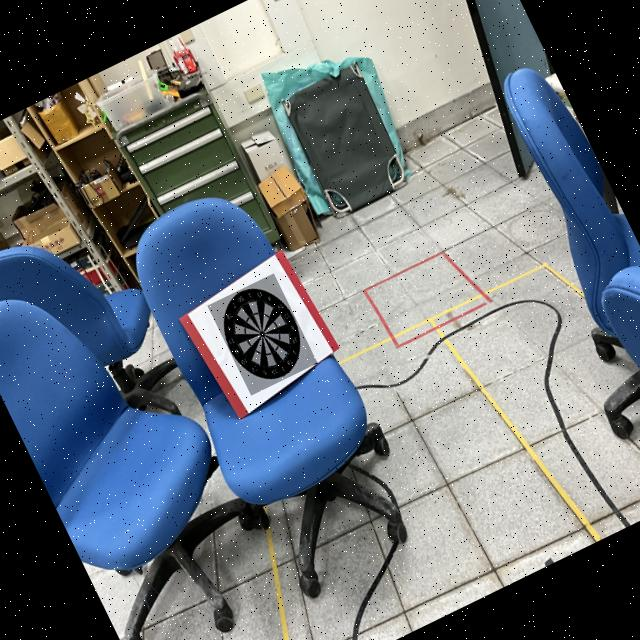archery-targets: (208, 273, 318, 395)
